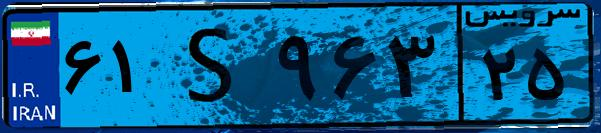1: (110, 28, 158, 98)
2: (475, 38, 525, 113)
3: (385, 28, 445, 110)
5: (525, 38, 570, 115)
6: (330, 28, 385, 110), (57, 26, 110, 100)
9: (270, 28, 330, 110)
S: (158, 12, 270, 120)
